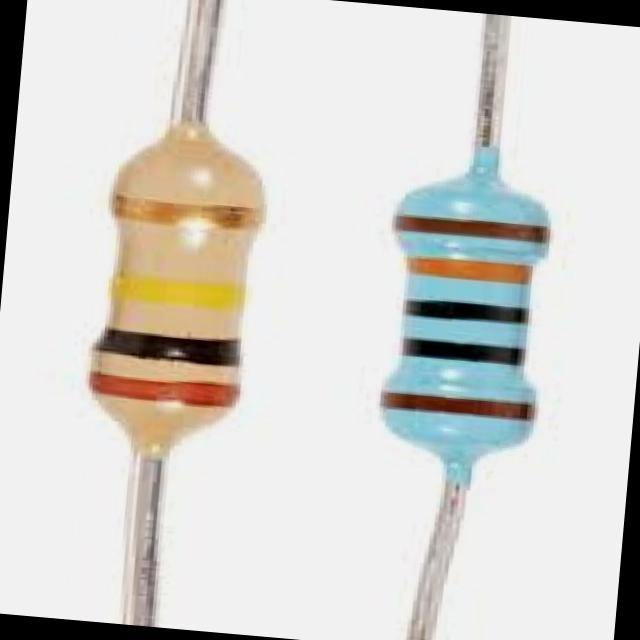Resistor: (89, 128, 262, 455), (383, 182, 548, 482)
black: (401, 338, 526, 365), (404, 300, 529, 324)
brown: (88, 371, 237, 406), (94, 329, 240, 364), (393, 214, 548, 242), (380, 391, 534, 419)
gold: (111, 193, 261, 228)
orange: (408, 256, 530, 283)
yellow: (111, 278, 247, 316)
